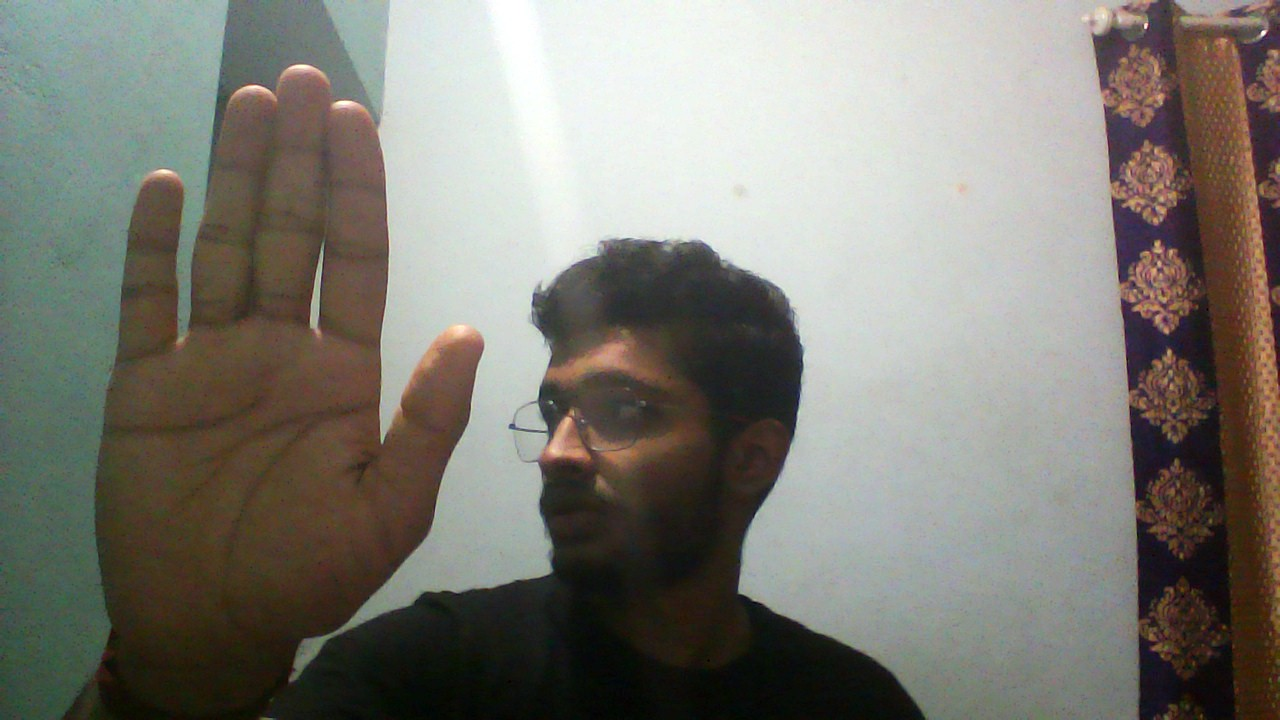hello: (95, 64, 484, 664)
